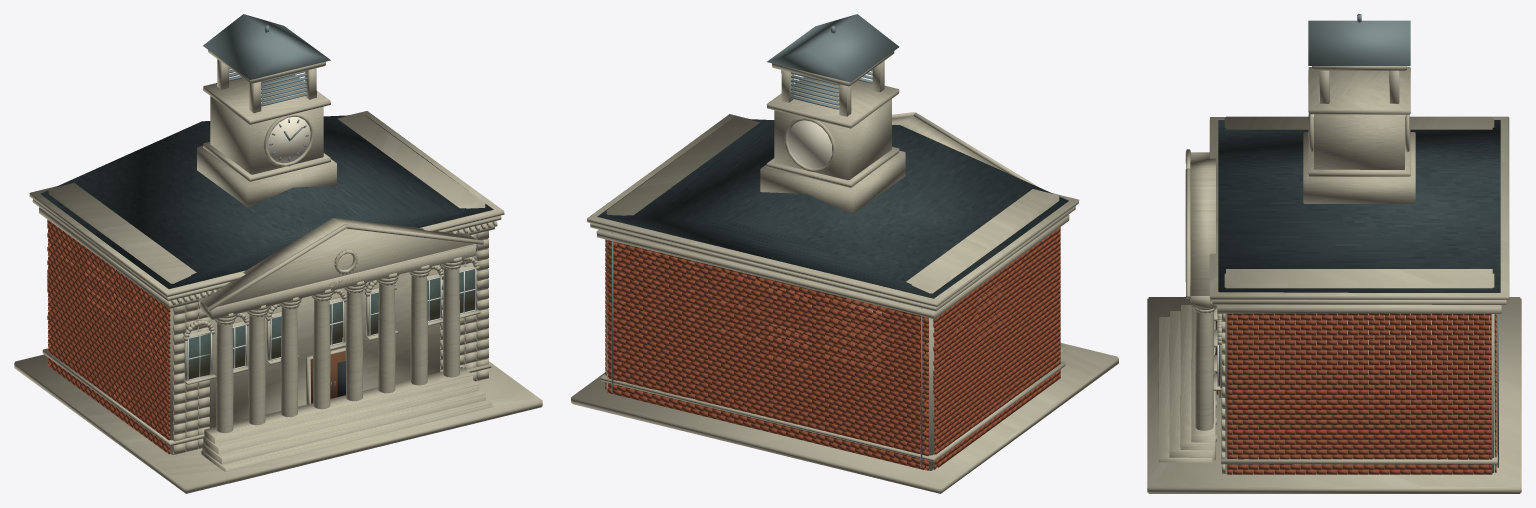
3 renders of one model, left to right at view 1: azimuth 30°, elevation 25°; view 2: azimuth 150°, elevation 25°; view 3: azimuth 270°, elevation 25°, orthographic. The views are drawn at different scales.
Visible parts, largest first — view 1: town_hall__static_limestone, town_hall__static_slate, town_hall__static_warm_brick, town_hall__static_patinated_metal, town_hall__static_warm_glazing, town_hall__static_civic_pale_painted_trim, town_hall__static_clock_ivory, town_hall__door_01__recessed_entrance_leaf; view 2: town_hall__static_warm_brick, town_hall__static_limestone, town_hall__static_slate, town_hall__static_patinated_metal, town_hall__static_clock_ivory; view 3: town_hall__static_limestone, town_hall__static_warm_brick, town_hall__static_slate, town_hall__static_patinated_metal.
Boxes of the visible parts, box(x1,y1,x2,y2) form: town_hall__static_limestone: box(14, 50, 542, 493); town_hall__static_slate: box(40, 115, 493, 288); town_hall__static_warm_brick: box(47, 219, 170, 454); town_hall__static_patinated_metal: box(203, 14, 330, 160); town_hall__static_warm_glazing: box(189, 269, 474, 379); town_hall__static_civic_pale_painted_trim: box(187, 268, 476, 380); town_hall__static_clock_ivory: box(267, 117, 310, 163); town_hall__door_01__recessed_entrance_leaf: box(311, 351, 345, 403); town_hall__static_warm_brick: box(605, 227, 1060, 470); town_hall__static_limestone: box(571, 51, 1118, 493); town_hall__static_slate: box(597, 119, 1068, 298); town_hall__static_patinated_metal: box(611, 14, 922, 468); town_hall__static_clock_ivory: box(787, 120, 832, 168); town_hall__static_limestone: box(1147, 66, 1521, 493); town_hall__static_warm_brick: box(1227, 313, 1496, 474); town_hall__static_slate: box(1218, 120, 1500, 292); town_hall__static_patinated_metal: box(1308, 14, 1499, 467).
Bounding box in the file's own units: 18 × 17 × 15.
Materials: 9 (4 with a texture image).
